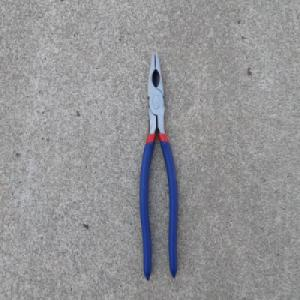Pliers: (138, 46, 179, 283)
